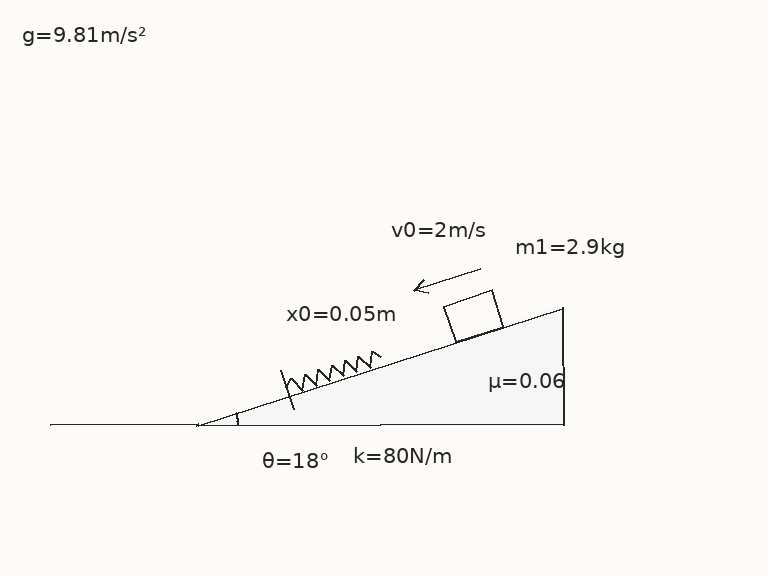block: (441, 288, 506, 343)
ramp: (196, 305, 564, 427)
spring: (284, 350, 383, 391)
